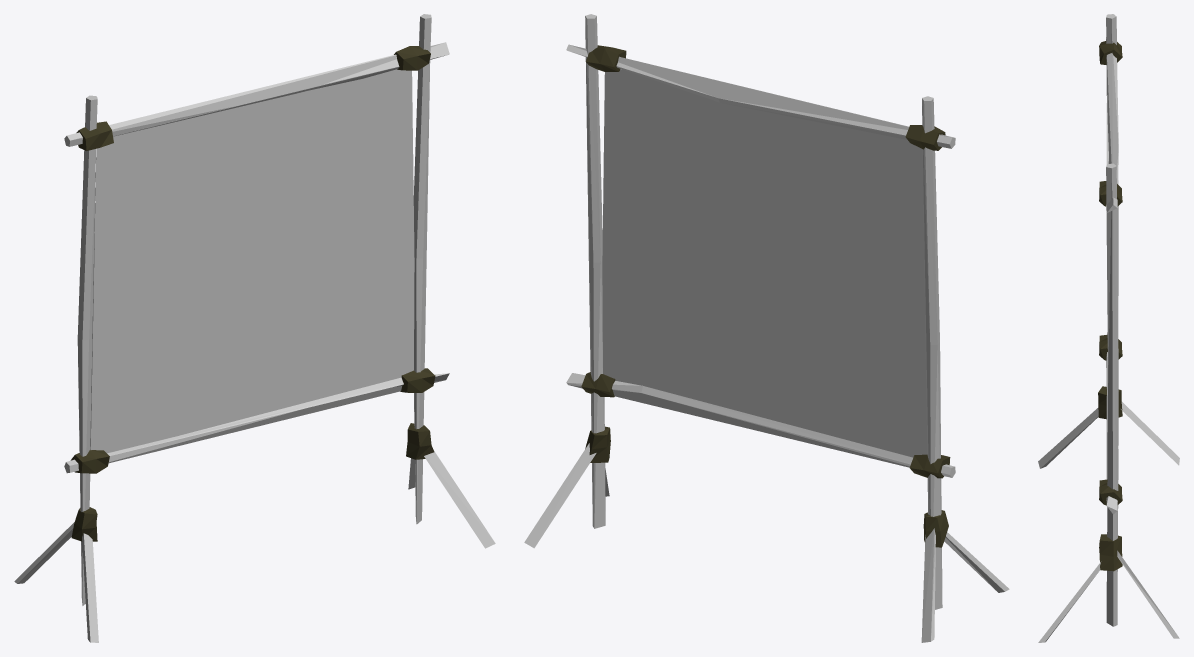
The model's file is OC_LEATHERSTAND_V01.OBJ.
3 renders of one model, left to right at view 1: azimuth 30°, elevation 25°; view 2: azimuth 150°, elevation 25°; view 3: azimuth 270°, elevation 25°, orthographic. The views are drawn at different scales.
Parts seen in each view (by area): view 1: OC_LEATHERSTAND_V01; view 2: OC_LEATHERSTAND_V01; view 3: OC_LEATHERSTAND_V01.
Part boxes in pixels (left/top/right/bottom): OC_LEATHERSTAND_V01: left=14, top=14, right=495, bottom=642; OC_LEATHERSTAND_V01: left=524, top=14, right=1009, bottom=642; OC_LEATHERSTAND_V01: left=1038, top=14, right=1179, bottom=642.
Bounding box in the file's own units: 2.06 × 2.47 × 0.6813.
